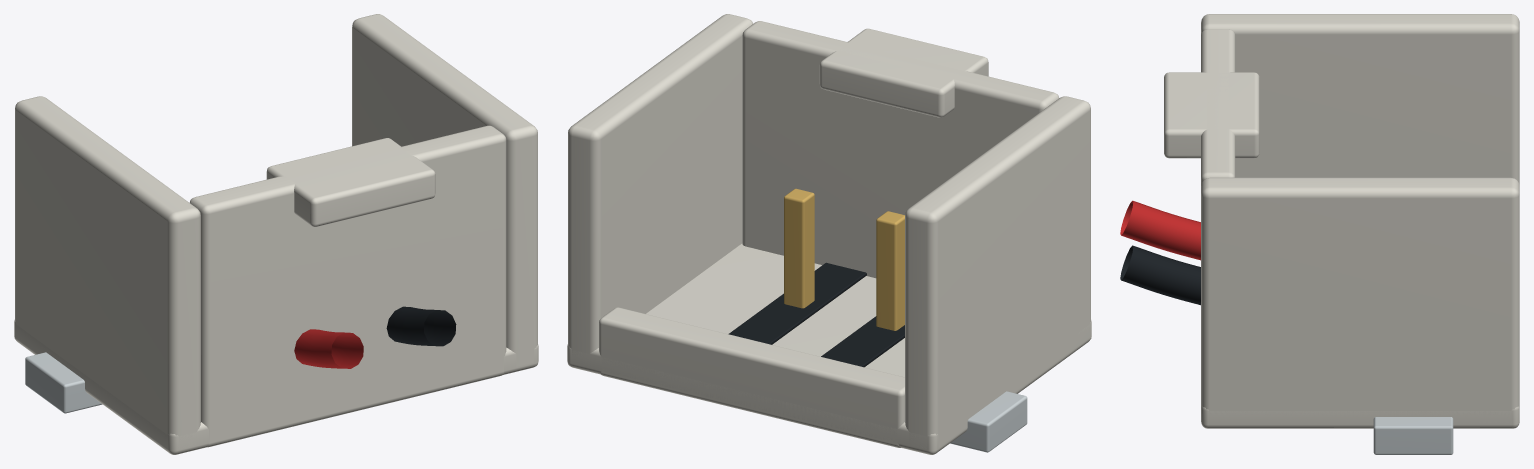
Rendered from jst.glb.
3 views of the same model, side by side, from view 1: azimuth 30°, elevation 25°; view 2: azimuth 150°, elevation 25°; view 3: azimuth 270°, elevation 25° (orthographic).
Parts seen in each view (by area): view 1: jst / Ceramic, jst / Tin, jst / Wire red, jst / Black; view 2: jst / Ceramic, jst / Gold, jst / Black, jst / Tin; view 3: jst / Ceramic, jst / Tin, jst / Black, jst / Wire red.
Boxes of the visible parts, x1,y1,x2,y2 form: jst / Ceramic: (14, 14, 538, 454); jst / Tin: (25, 352, 102, 413); jst / Wire red: (294, 329, 363, 368); jst / Black: (386, 306, 456, 346); jst / Ceramic: (567, 14, 1091, 454); jst / Gold: (784, 188, 904, 330); jst / Black: (728, 262, 904, 367); jst / Tin: (950, 391, 1027, 452); jst / Ceramic: (1164, 14, 1519, 428); jst / Tin: (1373, 417, 1453, 454); jst / Black: (1120, 245, 1200, 305); jst / Wire red: (1120, 200, 1200, 260).
Bounding box in the file's own units: 8.9 × 5.3 × 7.52.
